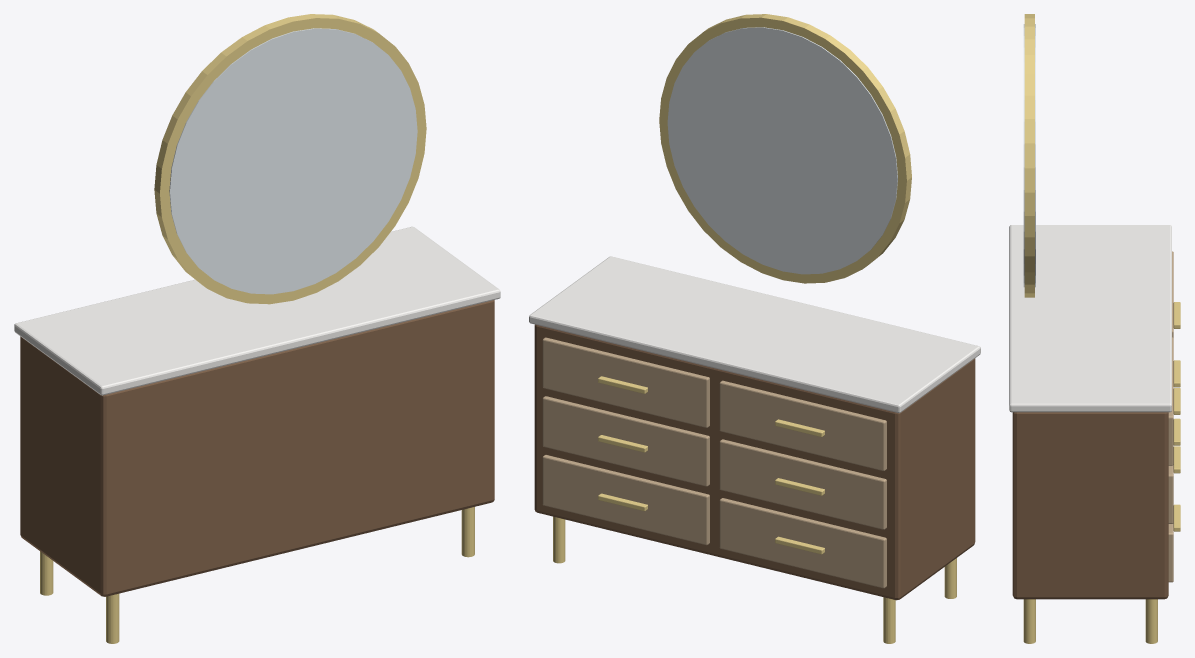
Rendered from sifonyer.glb.
3 views of the same model, side by side, from view 1: azimuth 30°, elevation 25°; view 2: azimuth 150°, elevation 25°; view 3: azimuth 270°, elevation 25° (orthographic). The views are drawn at different scales.
Visible parts, largest first — view 1: DR_Body, DR_Mirror_Glass, DR_Top, DR_Mirror_Frame, DR_Leg, DR_Leg.002; view 2: DR_Mirror_Glass, DR_Top, DR_Body, DR_Mirror_Frame, DR_Drawer, DR_Drawer.002, DR_Drawer.004, DR_Drawer.005, DR_Drawer.001, DR_Drawer.003; view 3: DR_Top, DR_Body, DR_Mirror_Frame, DR_Mirror_Glass, DR_Leg.002, DR_Leg.003, DR_Drawer.005, DR_Drawer.003, DR_Drawer.004.
Boxes of the visible parts, <box> form: DR_Body: <box>20,300,494,596</box>; DR_Mirror_Glass: <box>169,28,417,294</box>; DR_Top: <box>14,226,500,395</box>; DR_Mirror_Frame: <box>154,14,426,304</box>; DR_Leg: <box>106,593,119,643</box>; DR_Leg.002: <box>461,507,474,557</box>; DR_Mirror_Glass: <box>667,27,897,274</box>; DR_Top: <box>529,256,980,413</box>; DR_Body: <box>534,324,975,600</box>; DR_Mirror_Frame: <box>659,14,911,283</box>; DR_Drawer: <box>719,498,886,588</box>; DR_Drawer.002: <box>719,380,886,470</box>; DR_Drawer.004: <box>542,396,709,486</box>; DR_Drawer.005: <box>542,337,709,427</box>; DR_Drawer.001: <box>719,439,886,529</box>; DR_Drawer.003: <box>542,455,709,545</box>; DR_Top: <box>1009,225,1171,412</box>; DR_Body: <box>1012,412,1168,599</box>; DR_Mirror_Frame: <box>1024,14,1034,297</box>; DR_Mirror_Glass: <box>1023,24,1035,287</box>; DR_Leg.002: <box>1023,599,1035,643</box>; DR_Leg.003: <box>1145,599,1157,643</box>; DR_Drawer.005: <box>1168,337,1173,465</box>; DR_Drawer.003: <box>1168,523,1173,582</box>; DR_Drawer.004: <box>1168,465,1173,523</box>.
Size of the model in its own units: 1.26 by 1.74 by 0.505.
